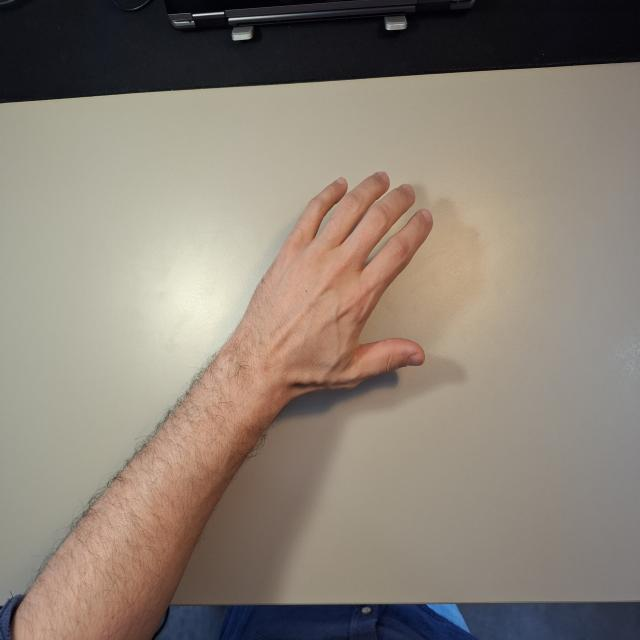glove_off: (244, 168, 435, 408)
